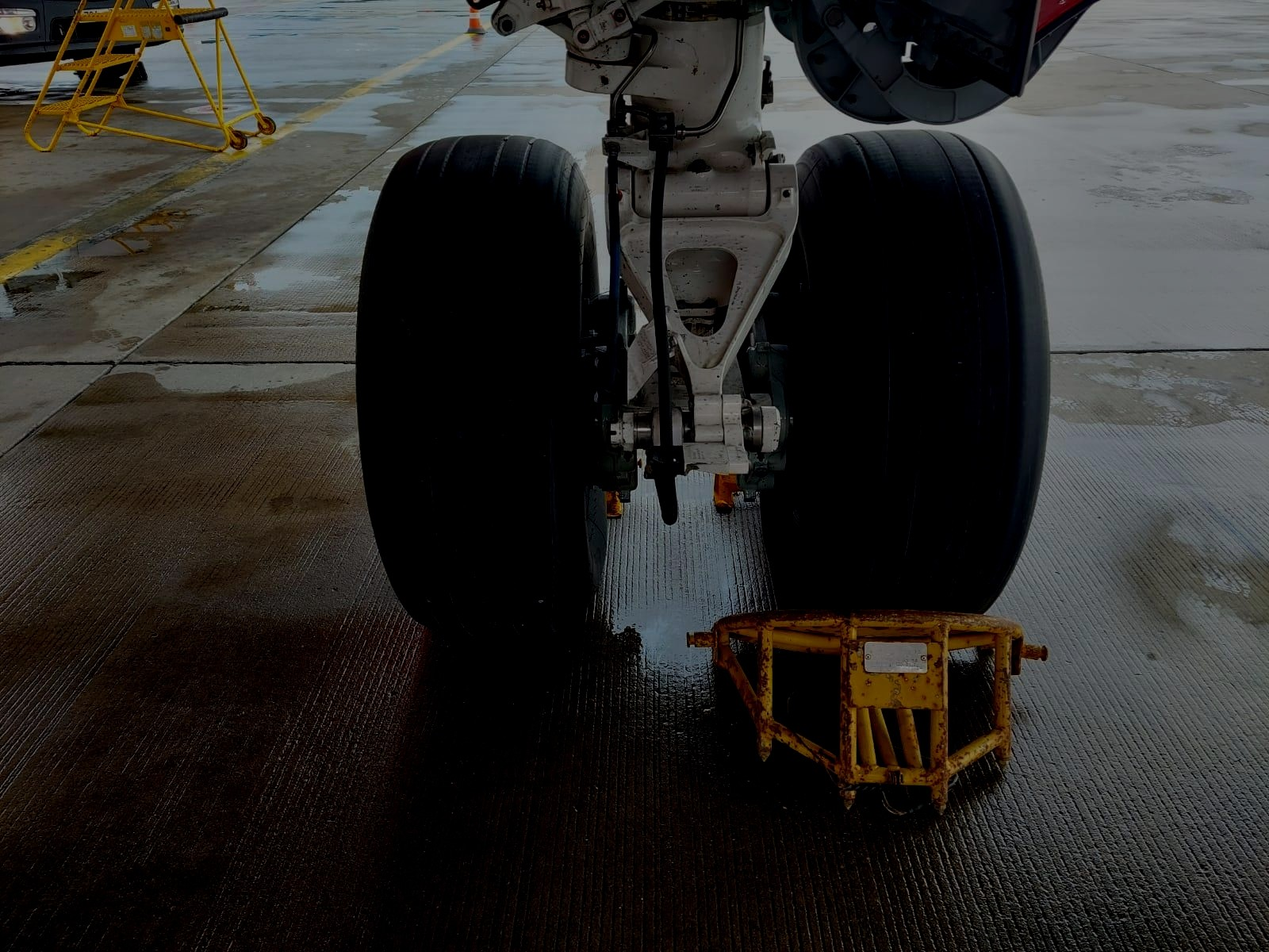chock: (682, 603, 1048, 818)
wheel: (764, 128, 1048, 607), (349, 130, 609, 648)
